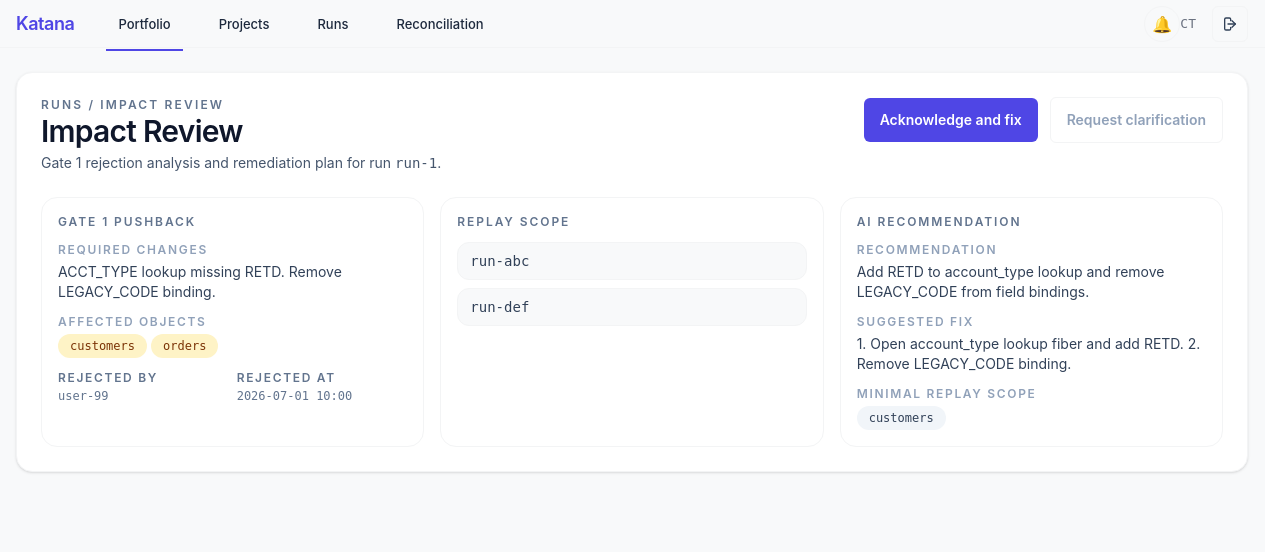
ImpactPage › shows an error message when acknowledge fails
The image size is (1265, 552).
Check: the text "Gate 1 Pushback" is shown, box [58,214,196,229]
Click the button "Acknowledge and fix".
click(951, 120)  # box [864,98,1038,142]
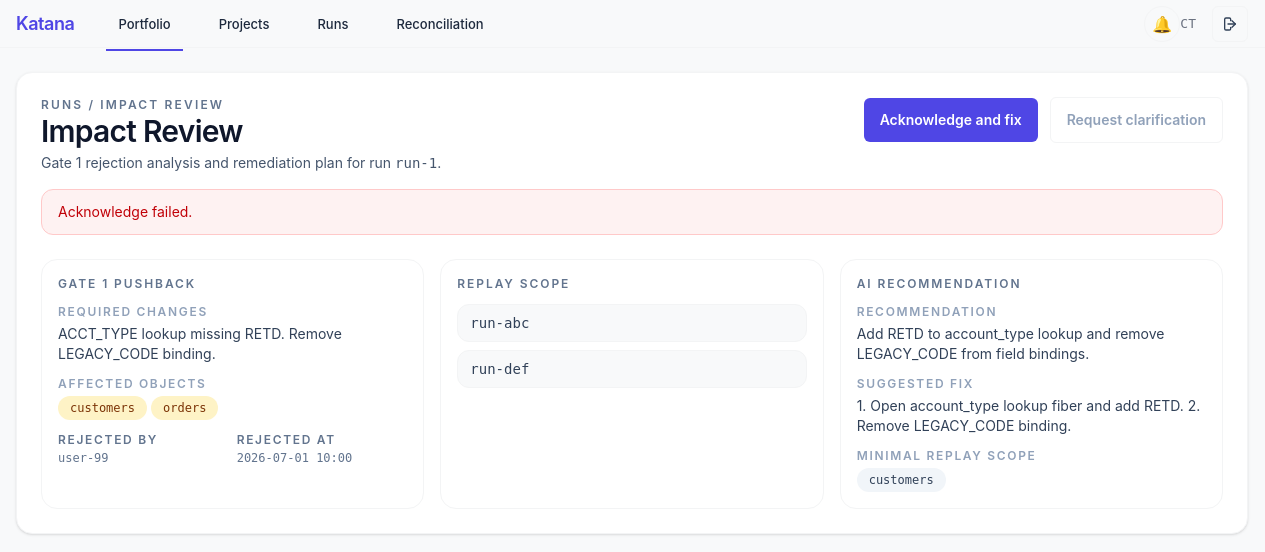
Check: the message reads "Acknowledge failed.", box [58,203,192,220]
